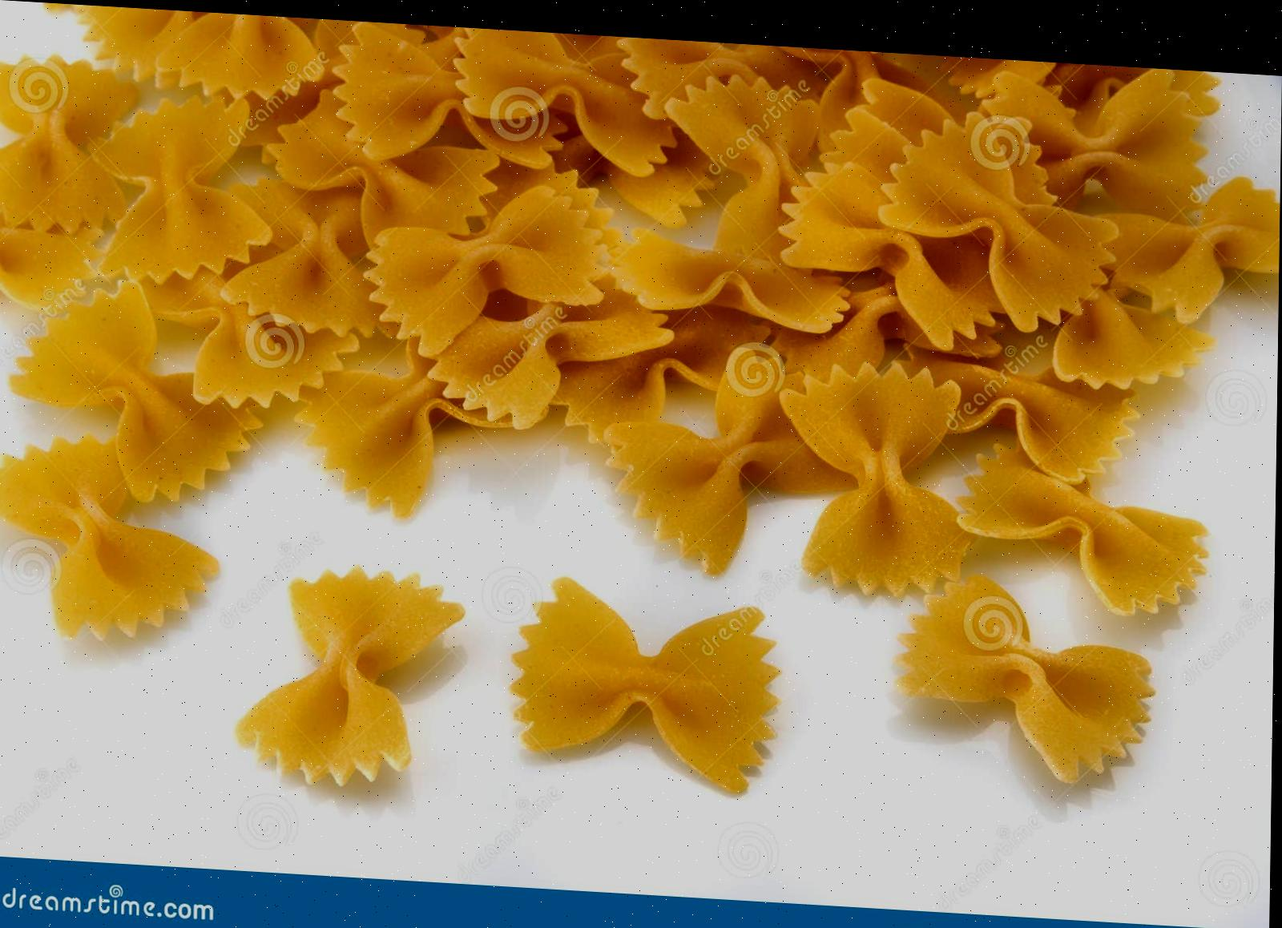pasta: (614, 76, 845, 332), (603, 345, 851, 574), (512, 579, 777, 792), (10, 282, 260, 500), (897, 576, 1153, 782), (878, 113, 1117, 331), (236, 567, 463, 785), (780, 363, 972, 595), (0, 437, 217, 637), (958, 447, 1207, 615), (367, 185, 607, 357), (296, 343, 508, 516), (429, 279, 673, 428), (264, 92, 499, 243), (333, 22, 562, 167), (982, 68, 1205, 216), (454, 27, 674, 176), (95, 98, 270, 280), (903, 352, 1137, 482), (144, 269, 359, 407), (557, 307, 768, 442), (1108, 178, 1280, 323), (223, 180, 380, 337), (0, 56, 136, 232), (76, 5, 317, 96), (1054, 289, 1214, 389), (0, 222, 101, 310)
